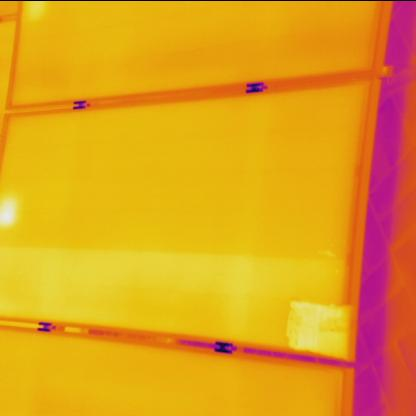hotspot: (281, 294, 358, 359)
